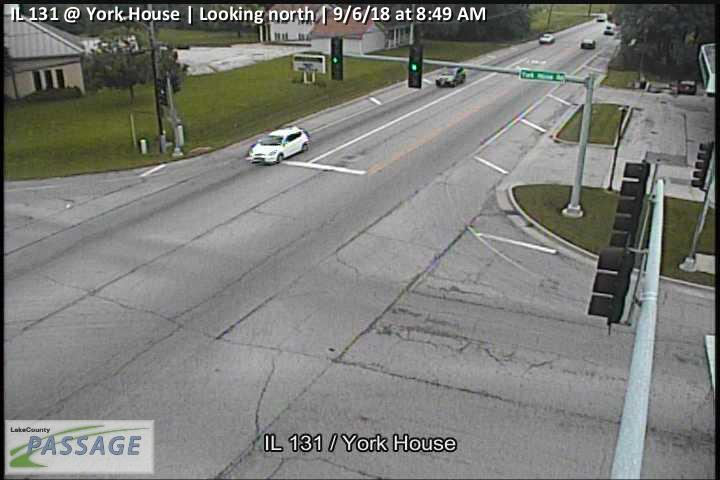SUV: (247, 125, 309, 165), (435, 64, 465, 88)
Sedan: (580, 38, 596, 49), (539, 32, 554, 43)
